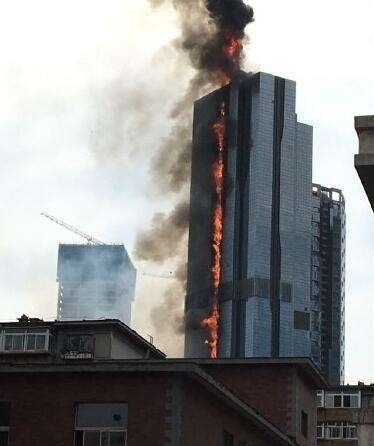fire: (224, 36, 242, 55)
